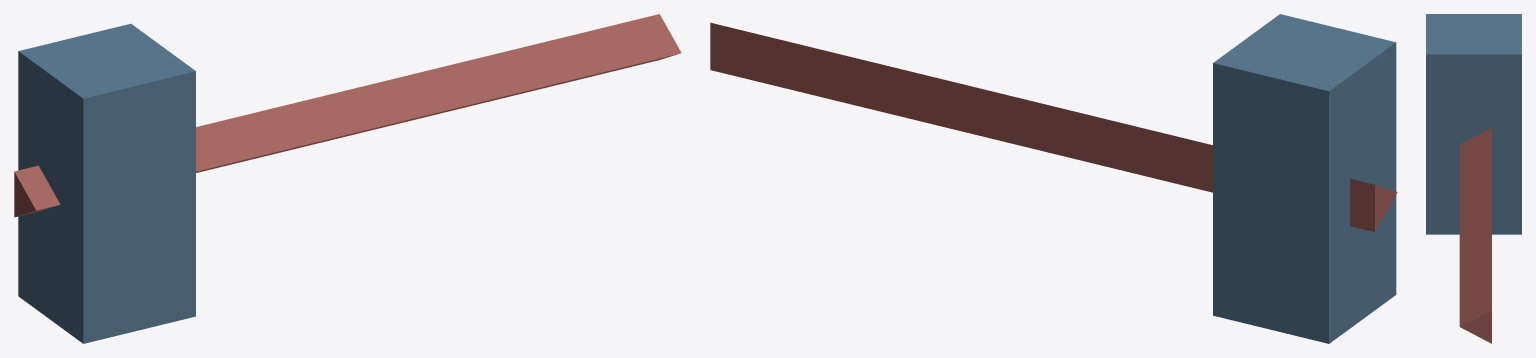
File: Hammer_2020.glb
3 views of the same model, side by side, from view 1: azimuth 30°, elevation 25°; view 2: azimuth 150°, elevation 25°; view 3: azimuth 270°, elevation 25° (orthographic). The views are drawn at different scales.
Visible parts, largest first — view 1: pCubeShape89, pCylinderShape124; view 2: pCubeShape89, pCylinderShape124; view 3: pCubeShape89, pCylinderShape124.
Boxes of the visible parts, x1,y1,x2,y2 form: pCubeShape89: (18,23,195,343); pCylinderShape124: (14,14,681,217); pCubeShape89: (1213,14,1396,343); pCylinderShape124: (710,22,1397,231); pCubeShape89: (1426,14,1521,234); pCylinderShape124: (1459,128,1491,343).
Bounding box in the file's own units: 0.1344 × 0.0488 × 0.0235.
